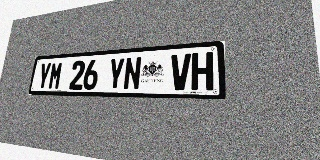2: (69, 60, 86, 90)
6: (82, 59, 100, 90)
H: (191, 52, 213, 90)
M: (48, 62, 63, 90)
N: (123, 56, 142, 90)
V: (170, 53, 191, 90)
Y: (107, 58, 125, 90), (36, 62, 52, 89)
